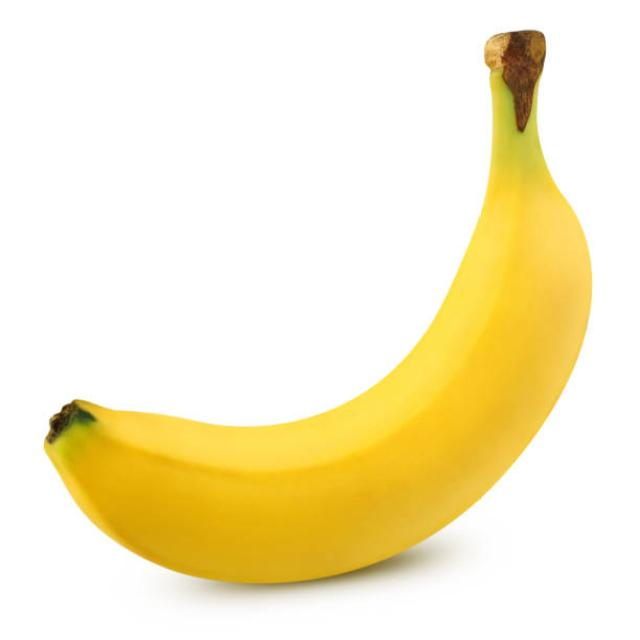Ripe: (37, 31, 596, 586)
